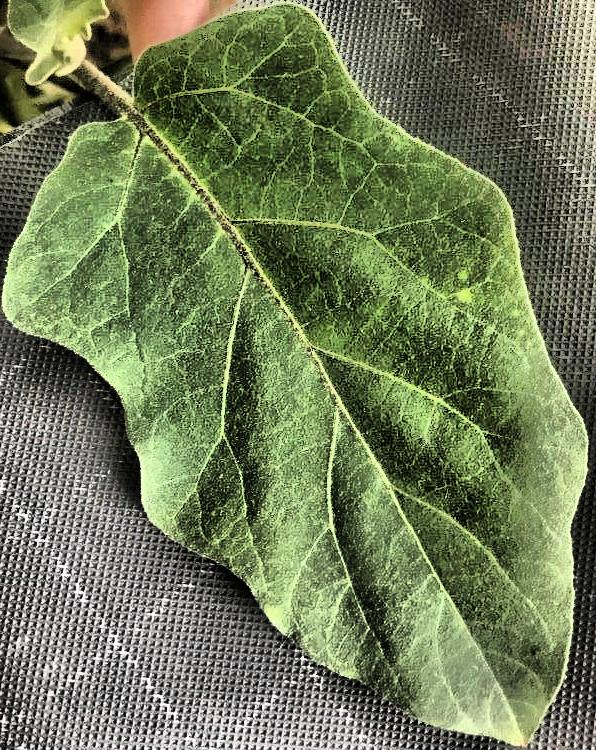HEALTHY: (1, 1, 596, 750)
